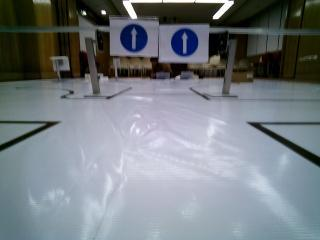straight: (109, 14, 160, 54), (161, 25, 208, 62)
